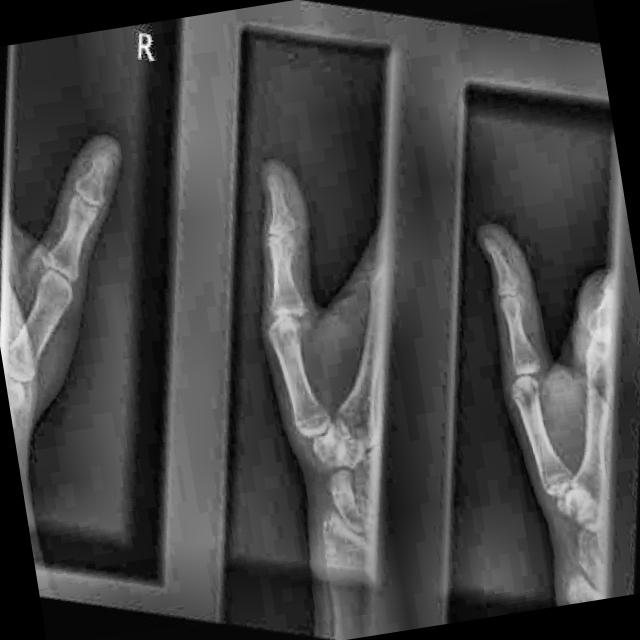fingers positive: (271, 218, 303, 266), (30, 237, 61, 279)
